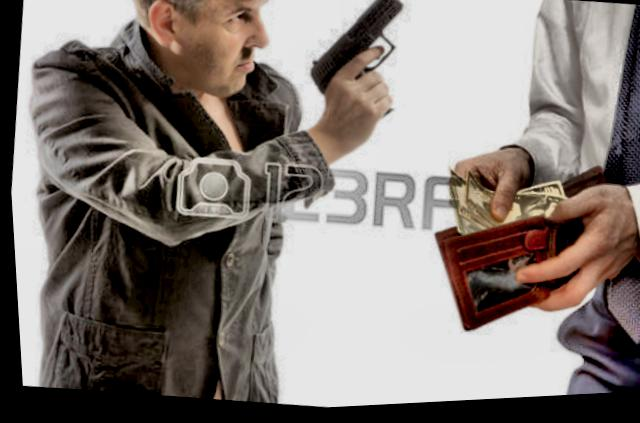pistol: (298, 0, 412, 128)
